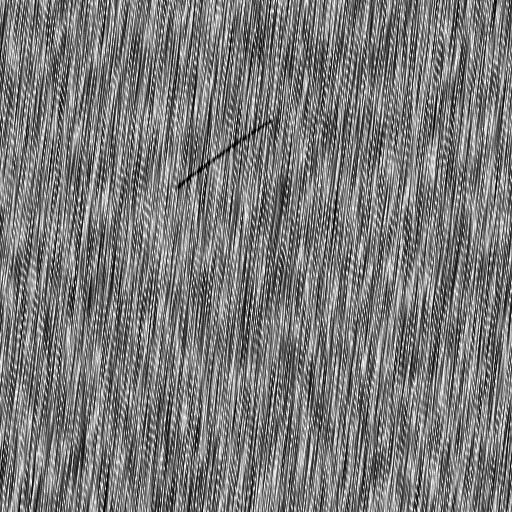DefectTypeC: (176, 119, 276, 190)
